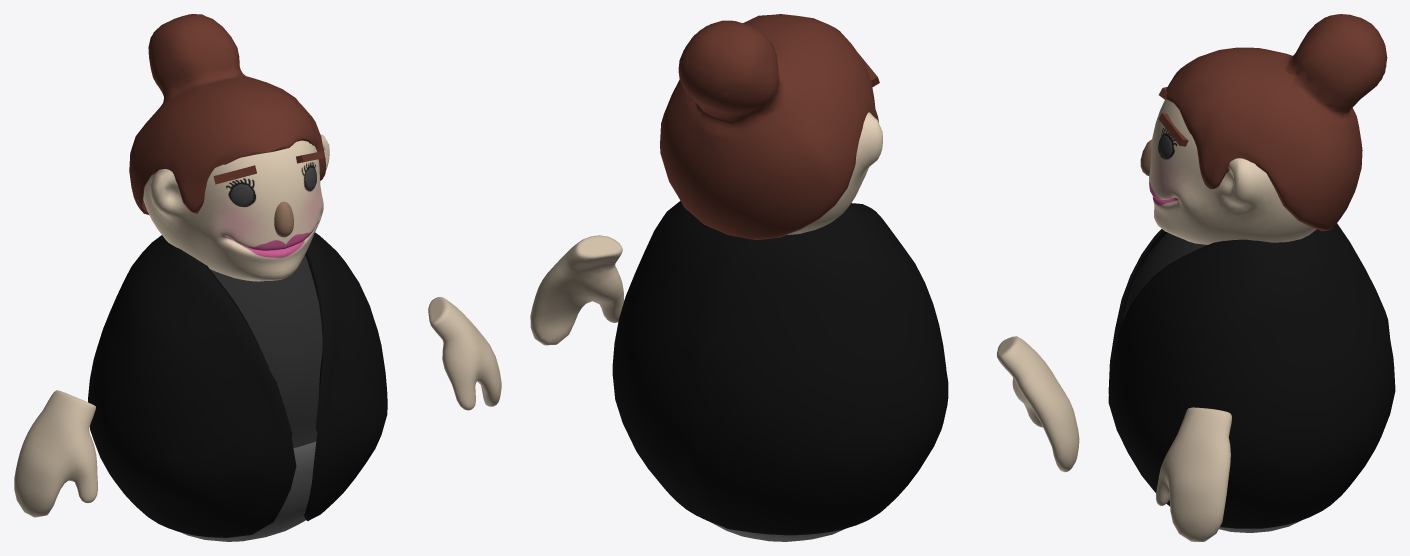
File: NPC_female01_dressed.fbx
3 views of the same model, side by side, from view 1: azimuth 30°, elevation 25°; view 2: azimuth 150°, elevation 25°; view 3: azimuth 270°, elevation 25° (orthographic). The views are drawn at different scales.
Parts seen in each view (by area): view 1: Group31916, hair02:Group4412, Group18725, Group31901, Group65443, Group65442, Group65441; view 2: Group31916, hair02:Group4412, Group65442, Group65443, Group18725, Group31901; view 3: Group31916, hair02:Group4412, Group18725, Group65442, Group31901, pCube15.
Boxes of the visible parts, <box> form: Group31916: <box>88,232,387,537</box>; hair02:Group4412: <box>129,14,326,214</box>; Group18725: <box>143,134,329,281</box>; Group31901: <box>181,255,322,541</box>; Group65443: <box>14,390,97,517</box>; Group65442: <box>428,297,501,410</box>; Group65441: <box>274,201,293,237</box>; Group31916: <box>612,201,948,535</box>; hair02:Group4412: <box>660,14,878,239</box>; Group65442: <box>530,235,624,345</box>; Group65443: <box>997,336,1079,472</box>; Group18725: <box>787,112,882,234</box>; Group31901: <box>711,522,845,541</box>; Group31916: <box>1108,223,1395,528</box>; hair02:Group4412: <box>1165,14,1387,231</box>; Group18725: <box>1149,97,1316,244</box>; Group65442: <box>1156,407,1231,541</box>; Group31901: <box>1122,233,1299,532</box>; pCube15: <box>1159,113,1188,146</box>.
Bounding box in the file's own units: 2.28 × 2.19 × 1.14.
